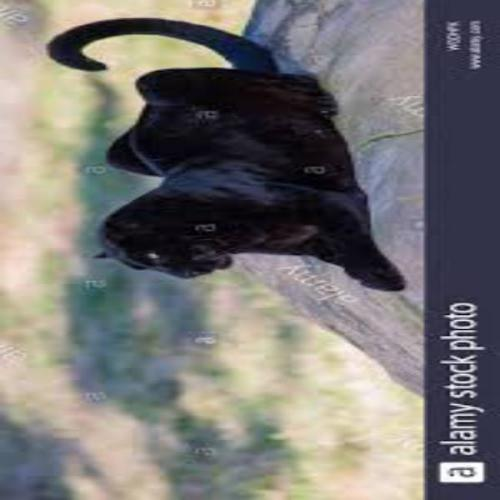panther-endangered: (47, 16, 405, 289)
